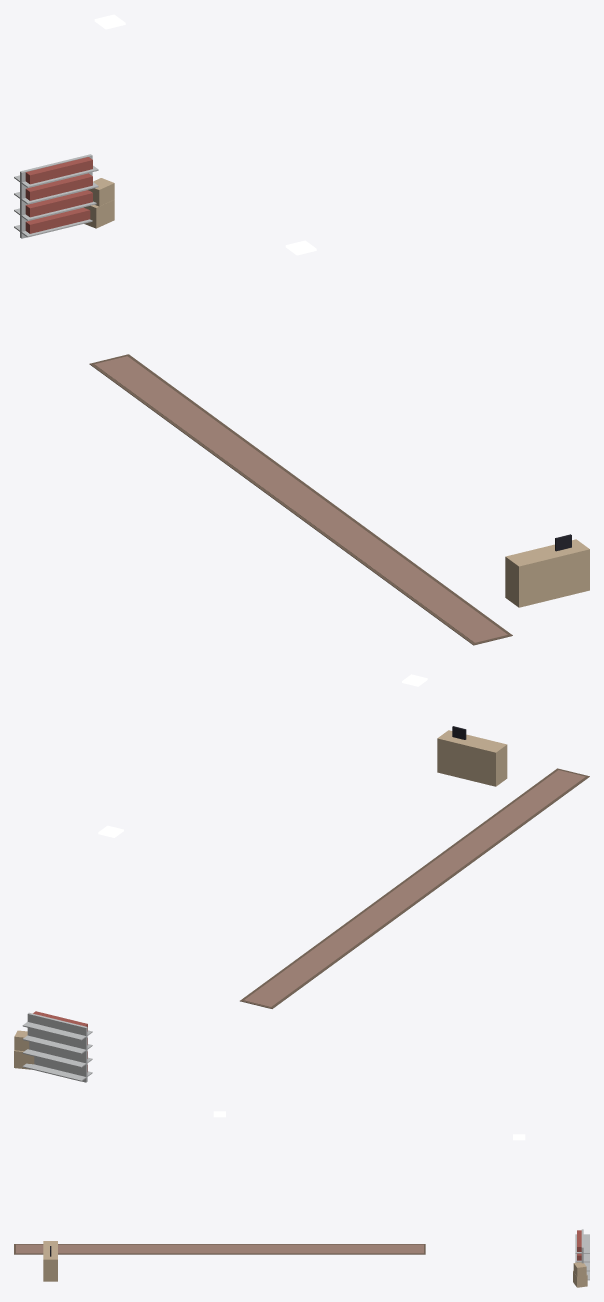
File: fine-s0.glb
The picture shows the model from 3 angles, top to bottom: view 1: azimuth 30°, elevation 25°; view 2: azimuth 150°, elevation 25°; view 3: azimuth 270°, elevation 25°; orthographic projection. The views are drawn at different scales.
Parts seen in each view (by area): view 1: soft-s0, shelving.000, shop-counter.000, cardboard-box.000; view 2: soft-s0, shelving.000, shop-counter.000, cardboard-box.000; view 3: soft-s0, shop-counter.000, shelving.000, cardboard-box.000.
Part boxes in pixels (x1,y1,x2,y2): soft-s0: (89, 354, 512, 645); shelving.000: (14, 154, 98, 238); shop-counter.000: (505, 534, 589, 607); cardboard-box.000: (84, 178, 114, 228); soft-s0: (240, 768, 589, 1008); shelving.000: (22, 1011, 92, 1082); shop-counter.000: (437, 726, 507, 786); cardboard-box.000: (14, 1030, 34, 1069); soft-s0: (14, 1244, 425, 1254); shop-counter.000: (43, 1241, 57, 1281); shelving.000: (575, 1229, 589, 1280); cardboard-box.000: (573, 1262, 587, 1287).
Size of the model in its own units: 4.23 by 6.13 by 23.61.
